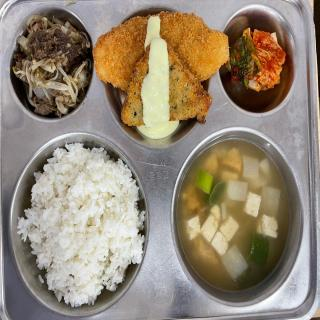Nasi: (17, 141, 147, 305)
